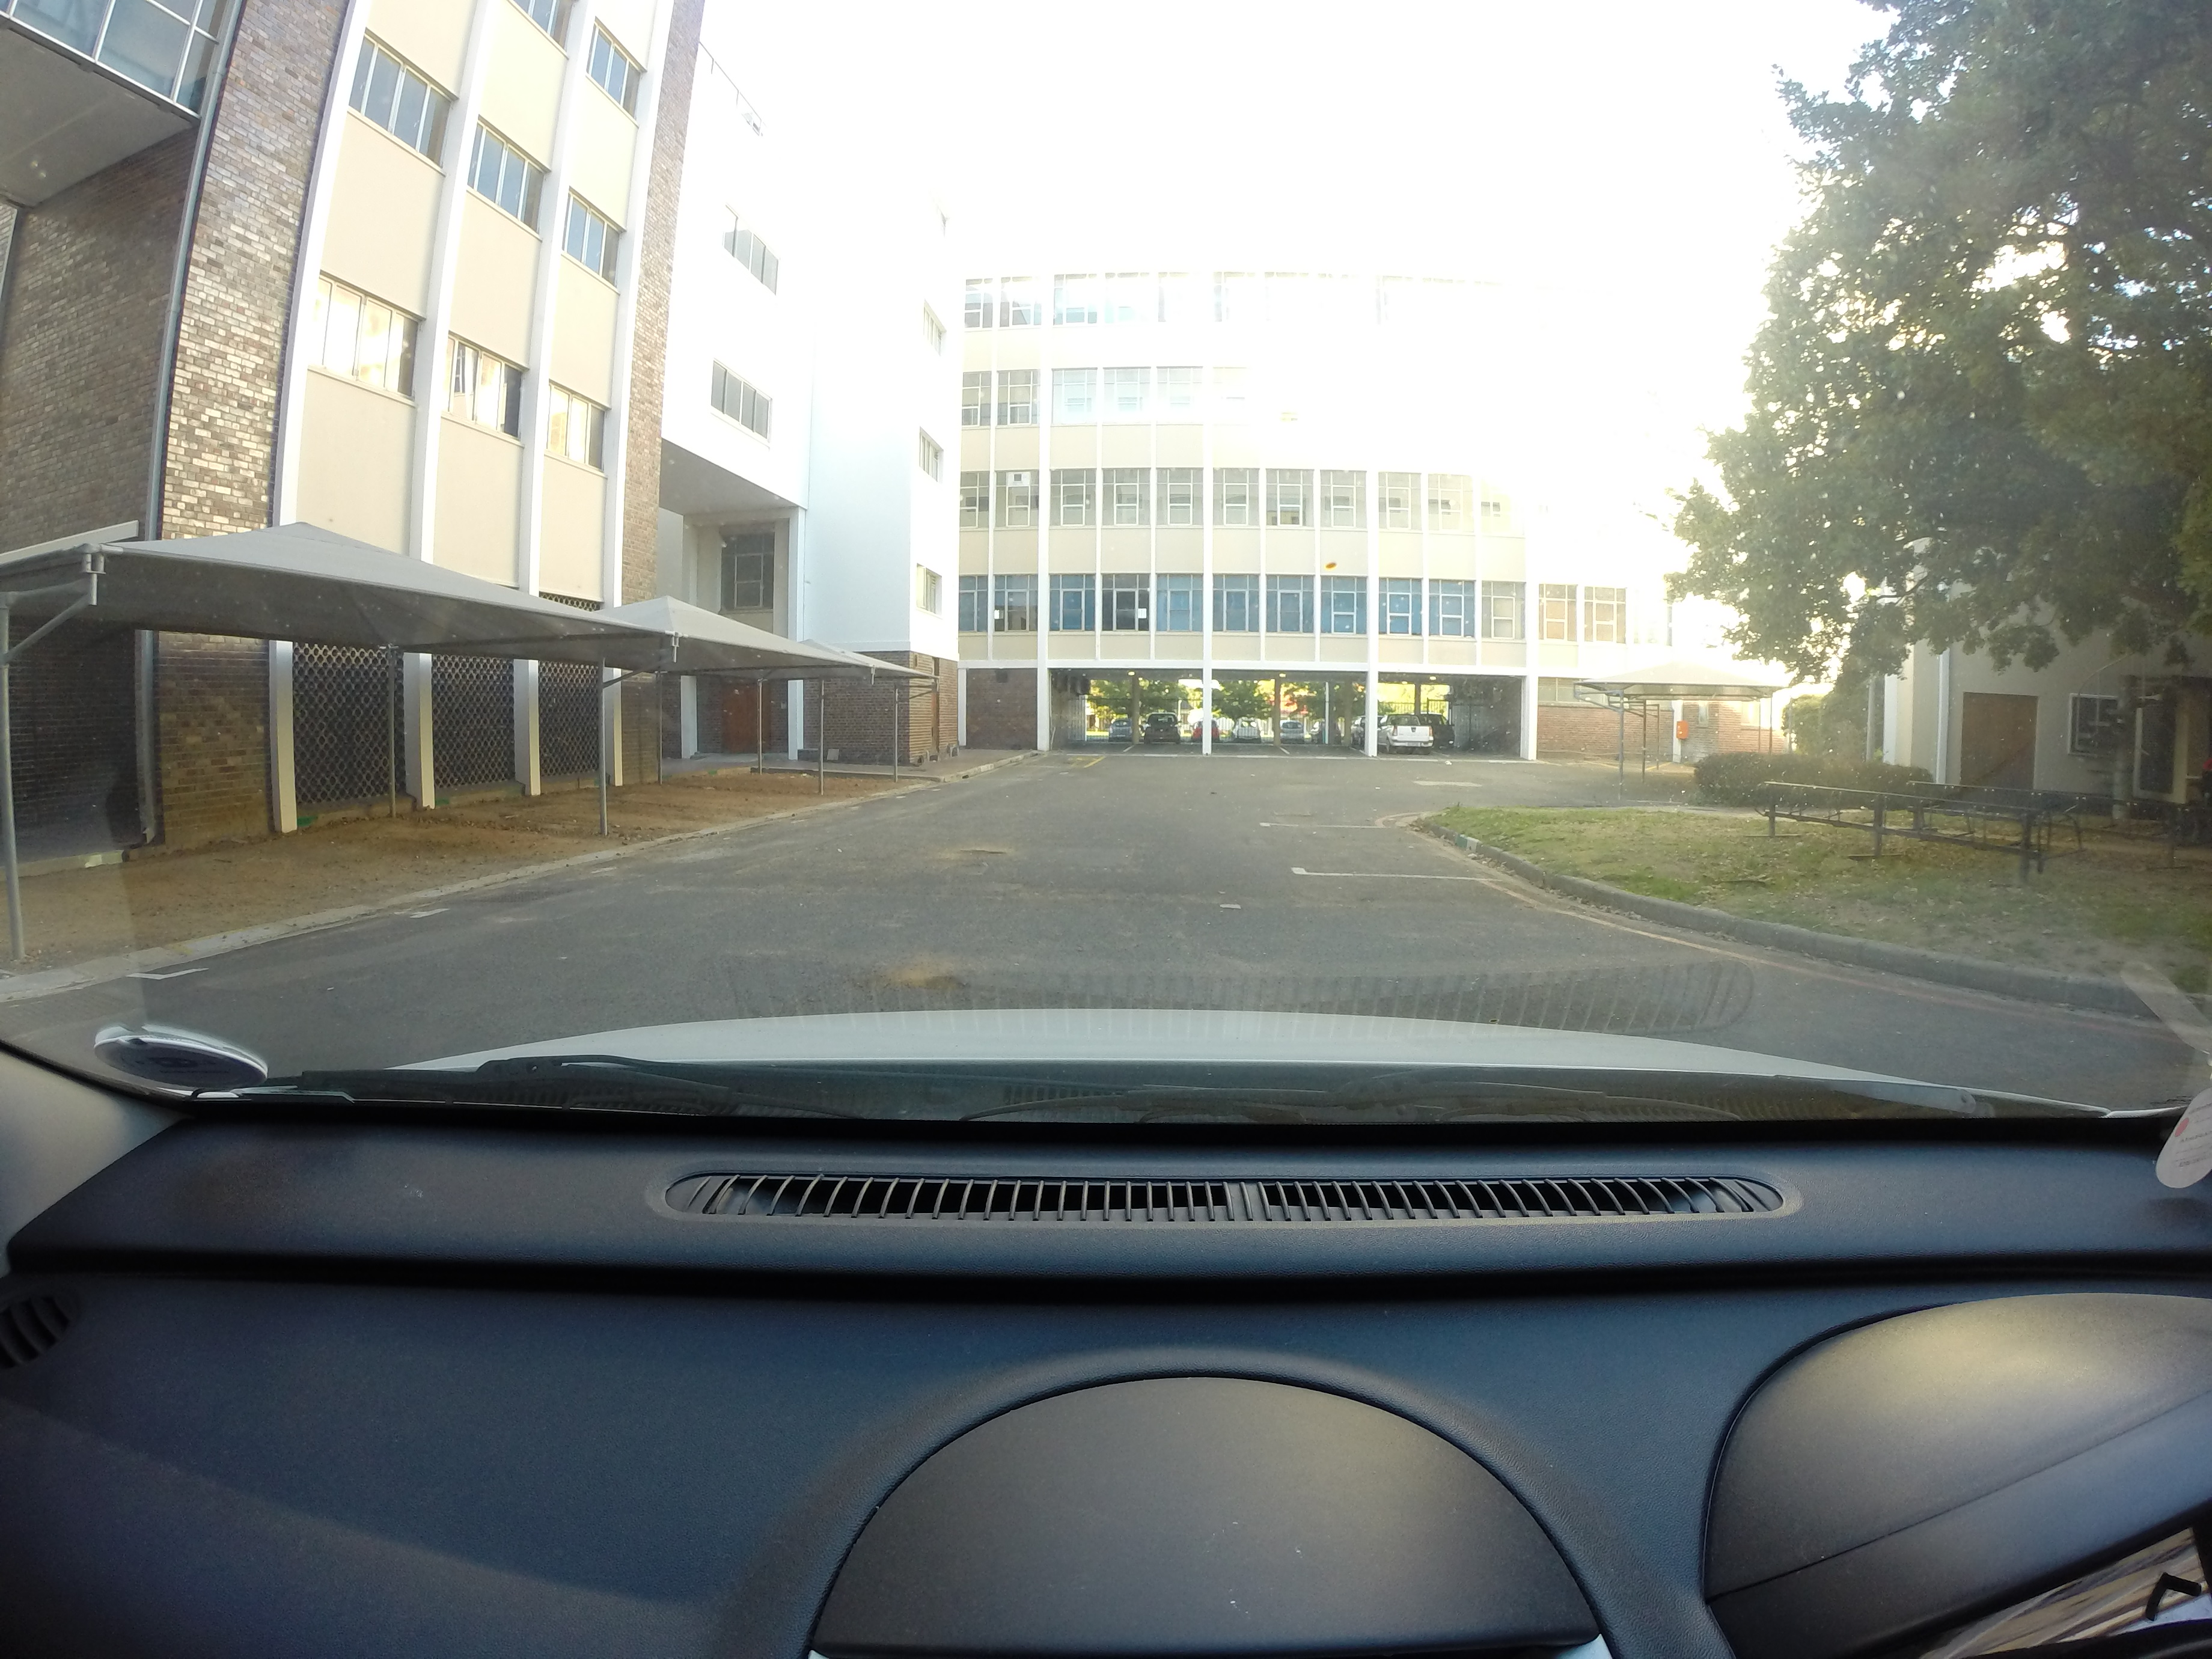pothole: (948, 842, 1017, 866)
